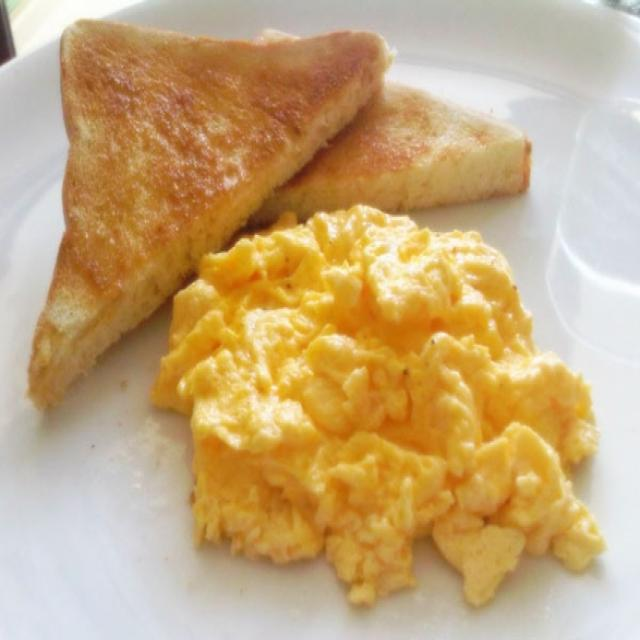鸡蛋料理: (8, 12, 631, 610)
